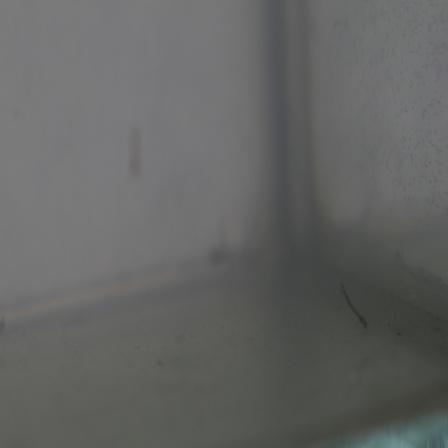Jentik-Nyamuk: (334, 276, 373, 335)
